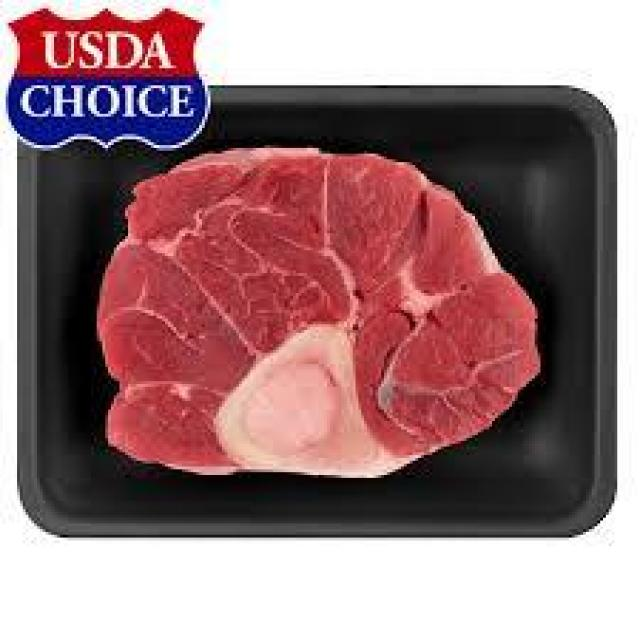beef: (104, 156, 535, 496)
